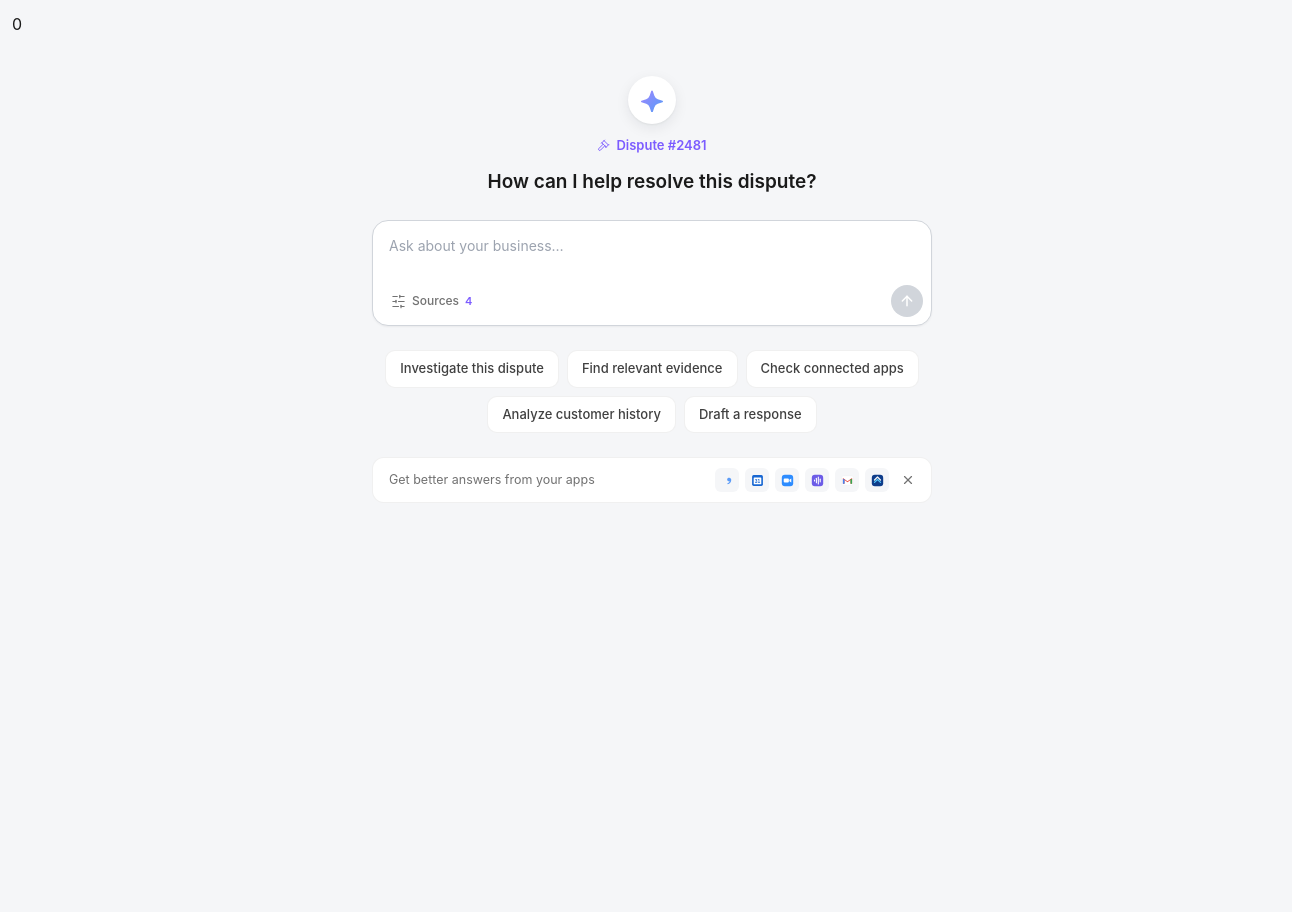
agent-proposed actions: propose -> approve -> execute -> UI updates › unchecking one item before approving only adds the items still checked
The width and height of the screenshot is (1292, 912).
Type "recommend evidence for me" into the text box with placeholder "Ask about your business…".
click(652, 253); type("recommend evidence for me")  # box left=373, top=221, right=931, bottom=285
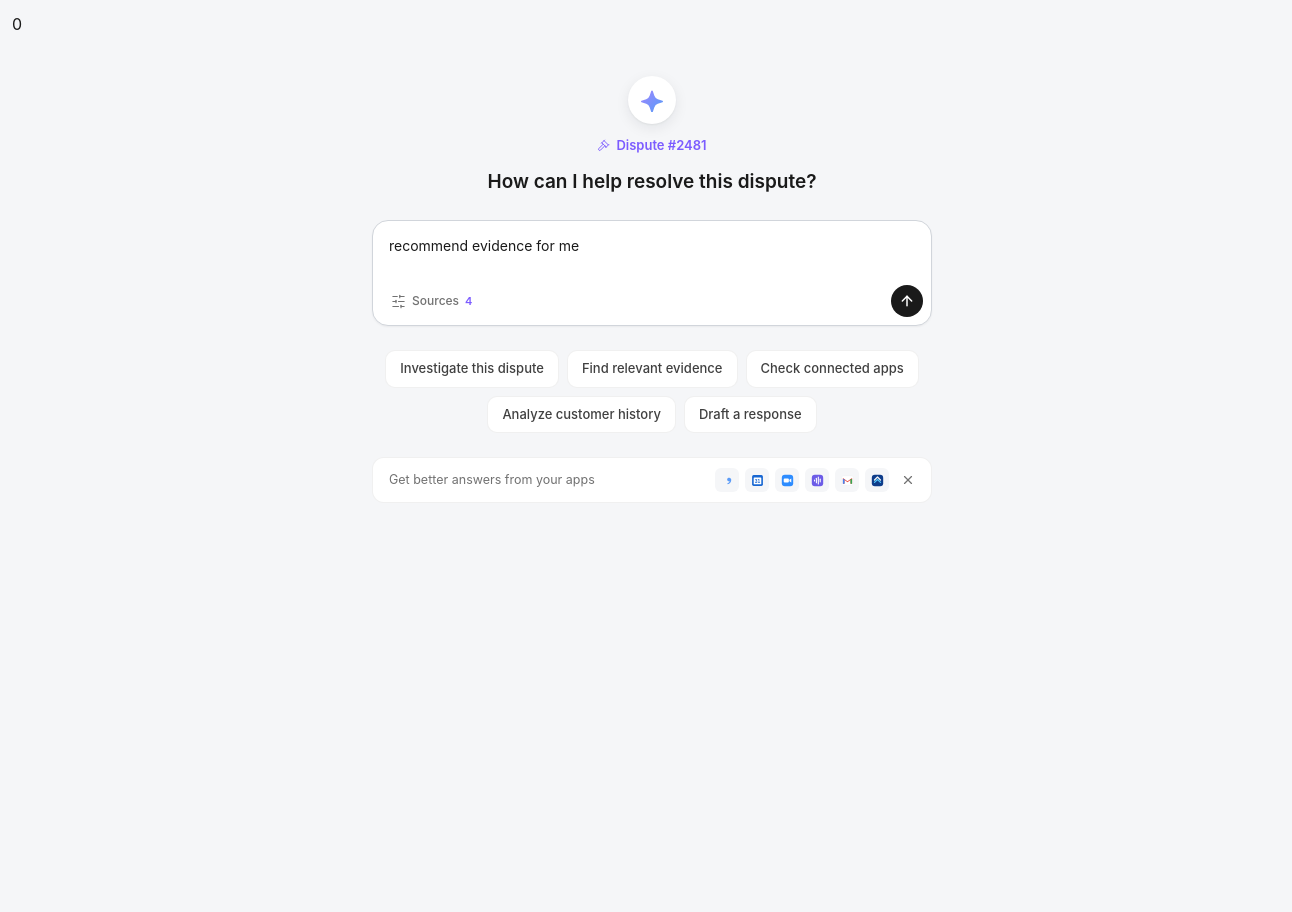
Press Enter in the text box with placeholder "Ask about your business…", box left=373, top=221, right=931, bottom=285
Wait 2000 ms
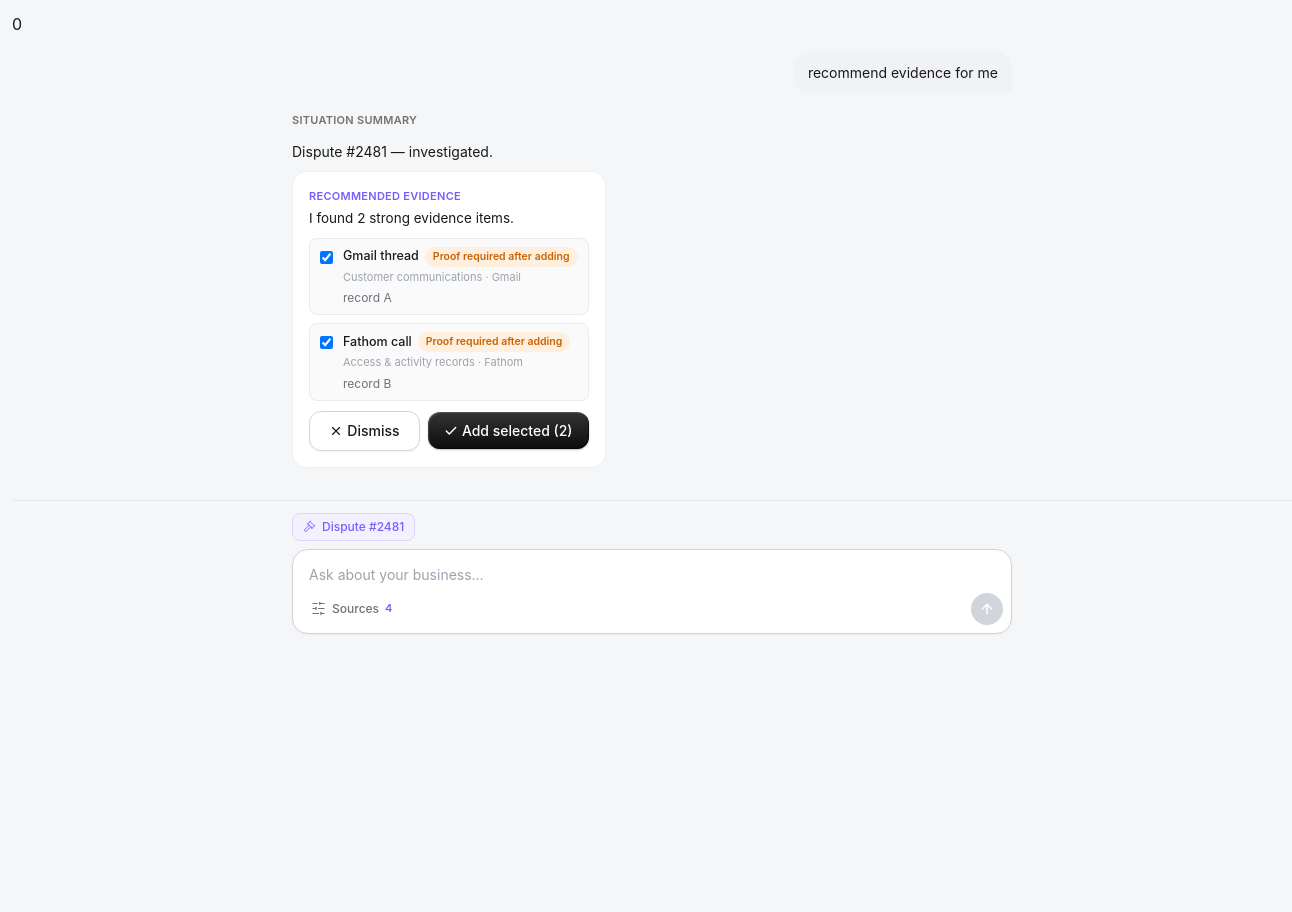
Click the checkbox named "Include Fathom call".
click(326, 342)  # box left=320, top=336, right=333, bottom=349
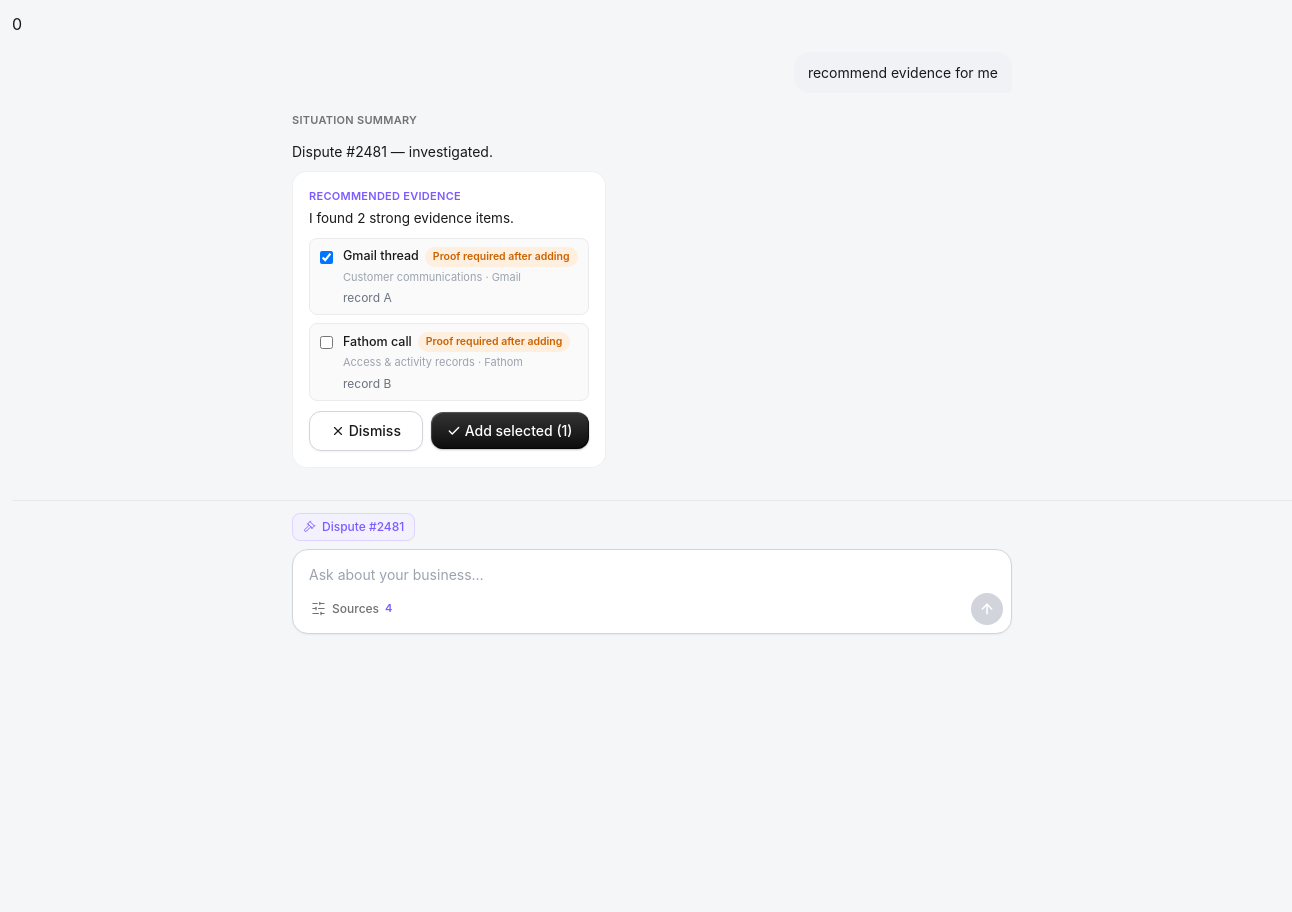
Click the button "Add selected (1)".
click(510, 430)  # box left=431, top=412, right=588, bottom=449
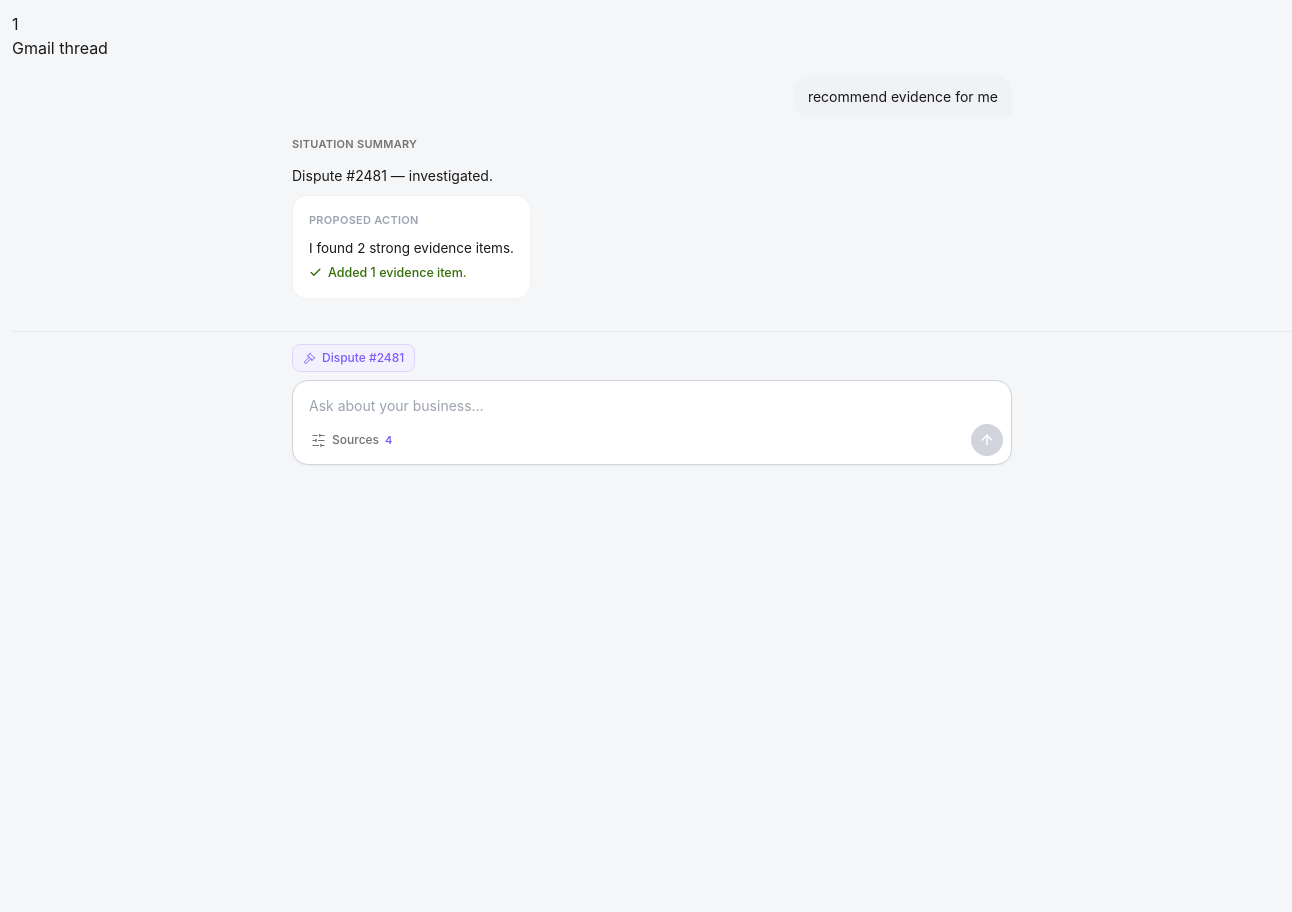
Expected: the text with test id "evidence-titles" reads "Gmail thread", left=12, top=38, right=108, bottom=58
Expected: the text with test id "evidence-count" reads "1", left=12, top=14, right=18, bottom=34
Expected: the text "Added 1 evidence item." is shown, left=309, top=264, right=467, bottom=280
